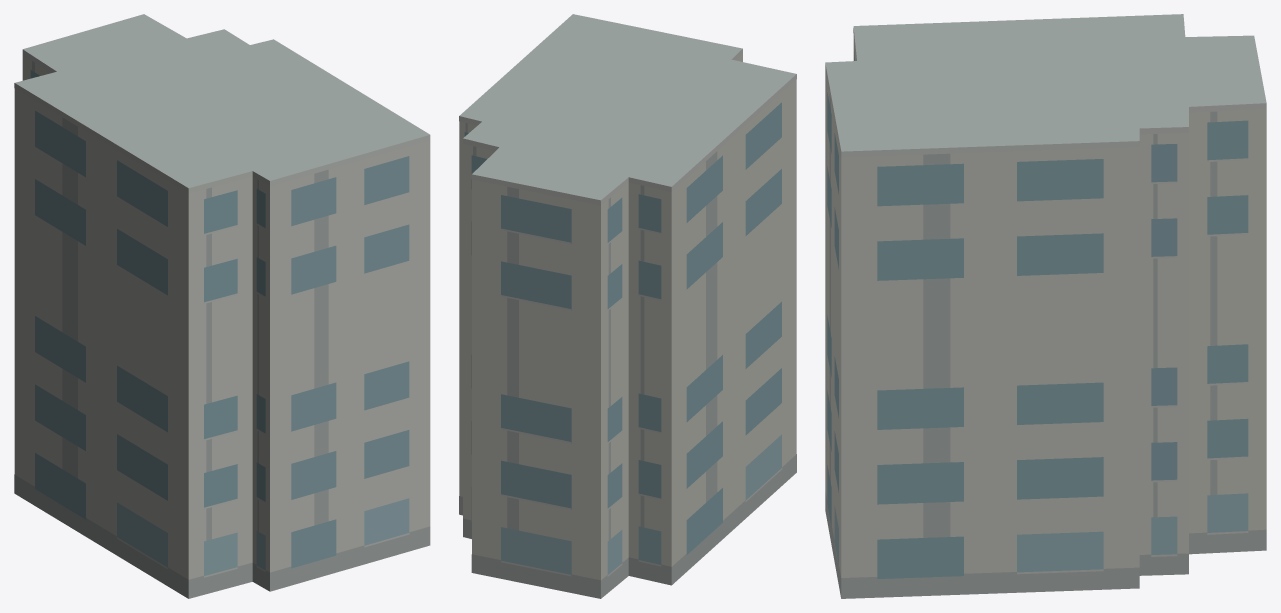
The model's file is survey-upis-32690117.glb.
3 renders of one model, left to right at view 1: azimuth 30°, elevation 25°; view 2: azimuth 150°, elevation 25°; view 3: azimuth 270°, elevation 25°, orthographic. The views are drawn at different scales.
Parts seen in each view (by area): view 1: survey-upis-32690117.tmp; view 2: survey-upis-32690117.tmp; view 3: survey-upis-32690117.tmp.
Boxes of the visible parts, x1=… form: survey-upis-32690117.tmp: x1=14, y1=14, x2=430, y2=598; survey-upis-32690117.tmp: x1=459, y1=14, x2=796, y2=598; survey-upis-32690117.tmp: x1=825, y1=14, x2=1266, y2=598.
Size of the model in its own units: 12.08 by 18.3 by 16.38.
